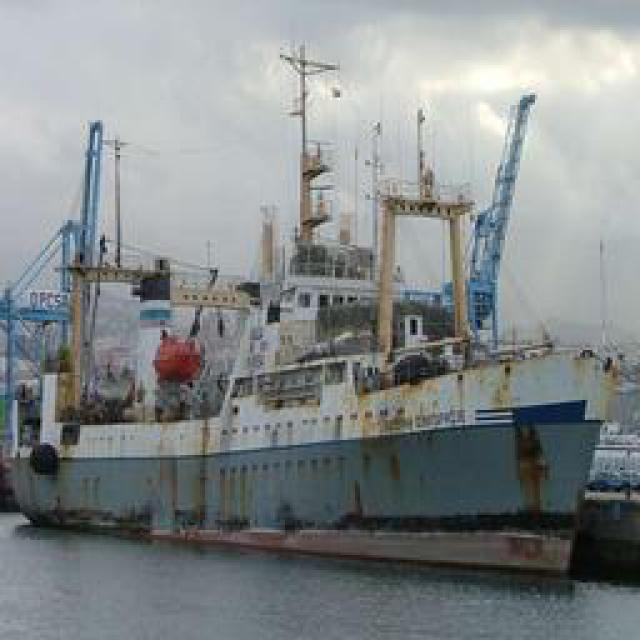Ship: (11, 75, 629, 560)
